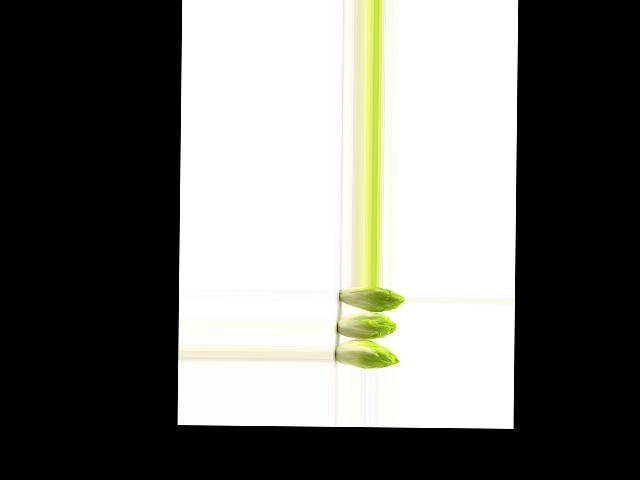lettuce: (332, 340, 400, 369)
